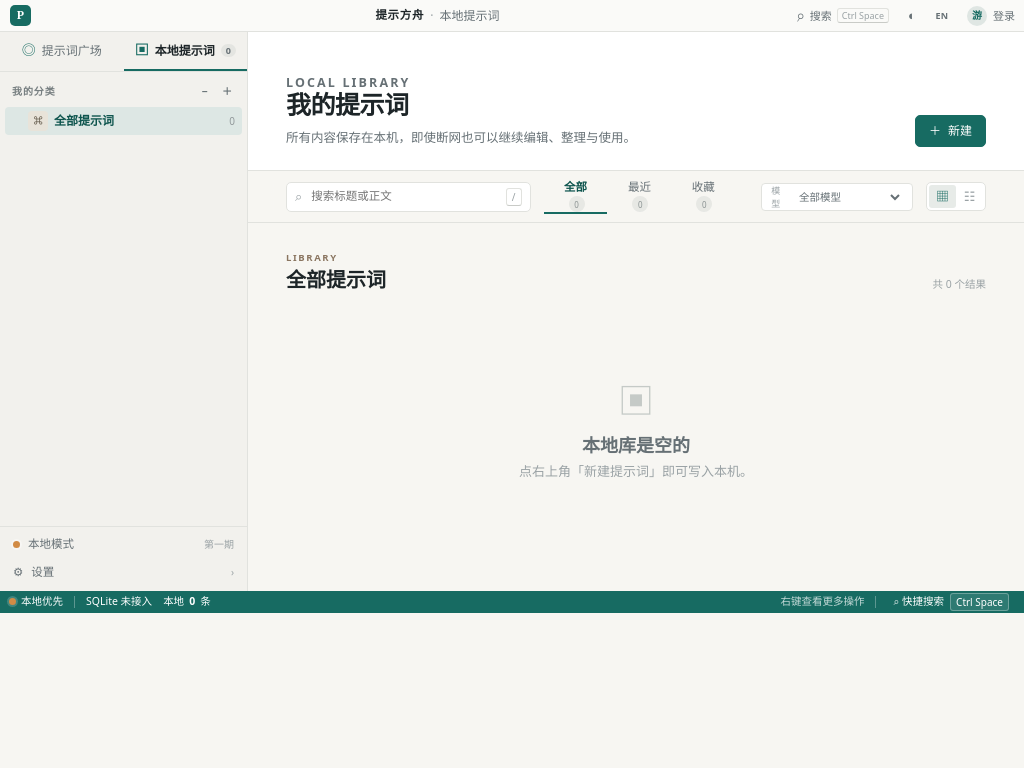
Test: WorkbenchShell › shows google on login when providers include google
Click the tab "◎ 提示词广场": (62, 52) [0,32,124,71]
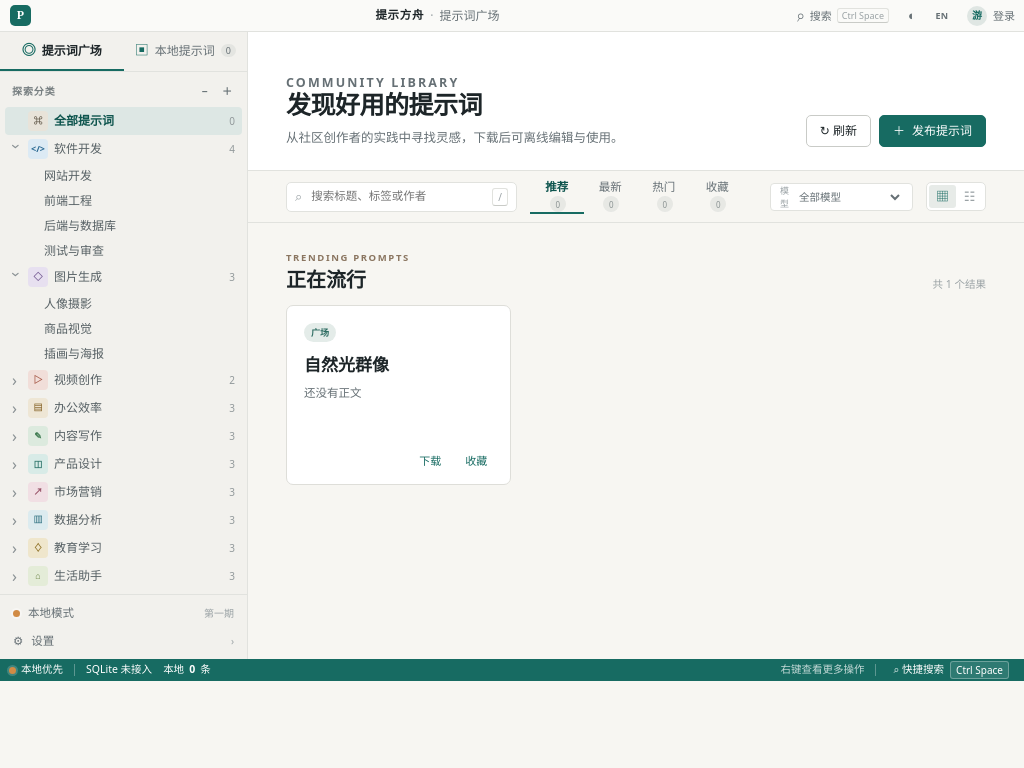
Click the button with test id "favorite-square": (476, 461) [459,452,493,470]
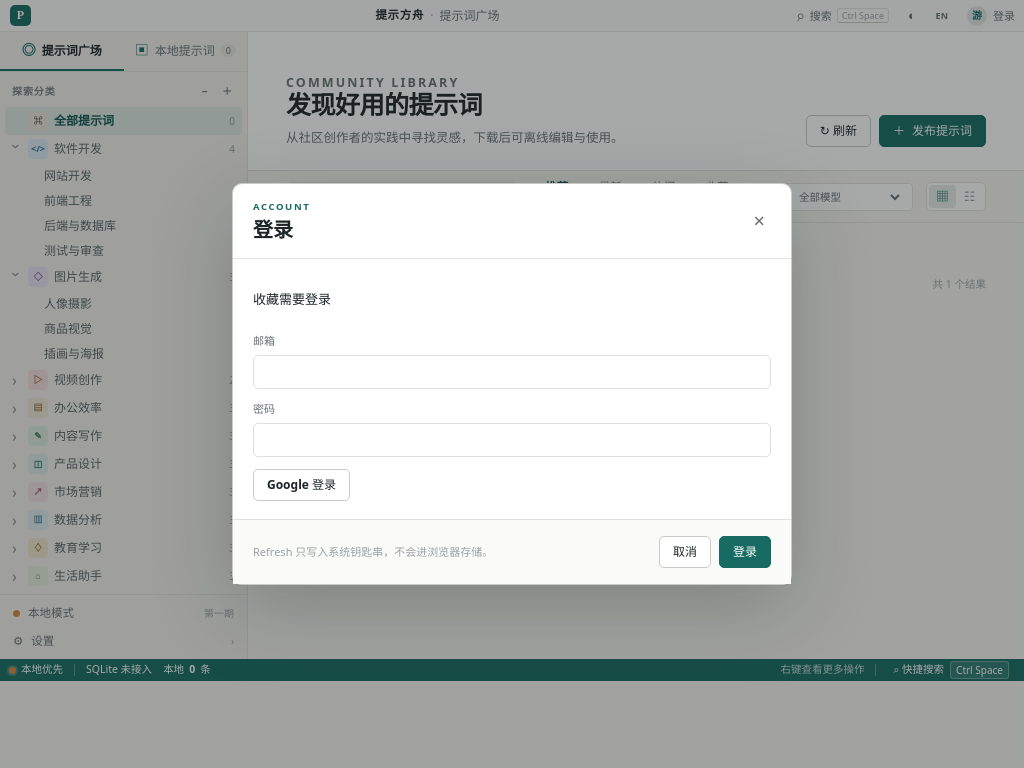
Expected: the button with test id "oauth-google" shows "Google", [253,469,350,501]
